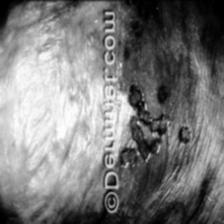Toxin: (31, 16, 93, 164), (119, 59, 188, 183), (124, 0, 164, 36)
